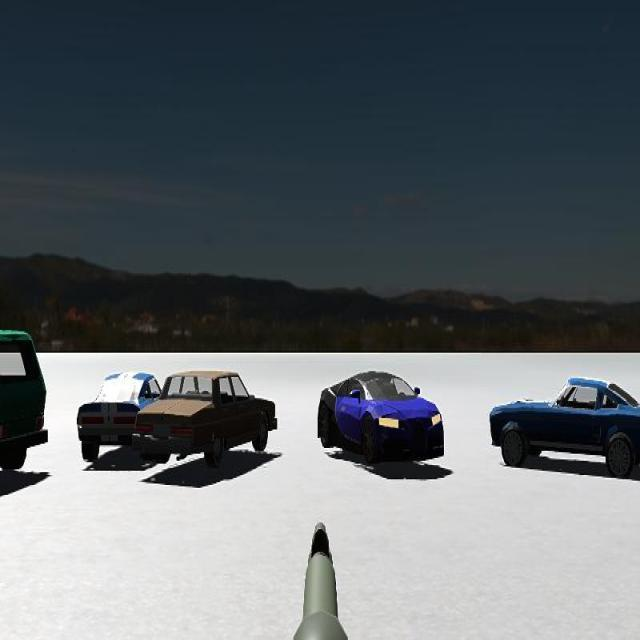car: (488, 374, 639, 486), (138, 368, 279, 470), (315, 369, 446, 468), (0, 319, 52, 501), (75, 369, 169, 467)
